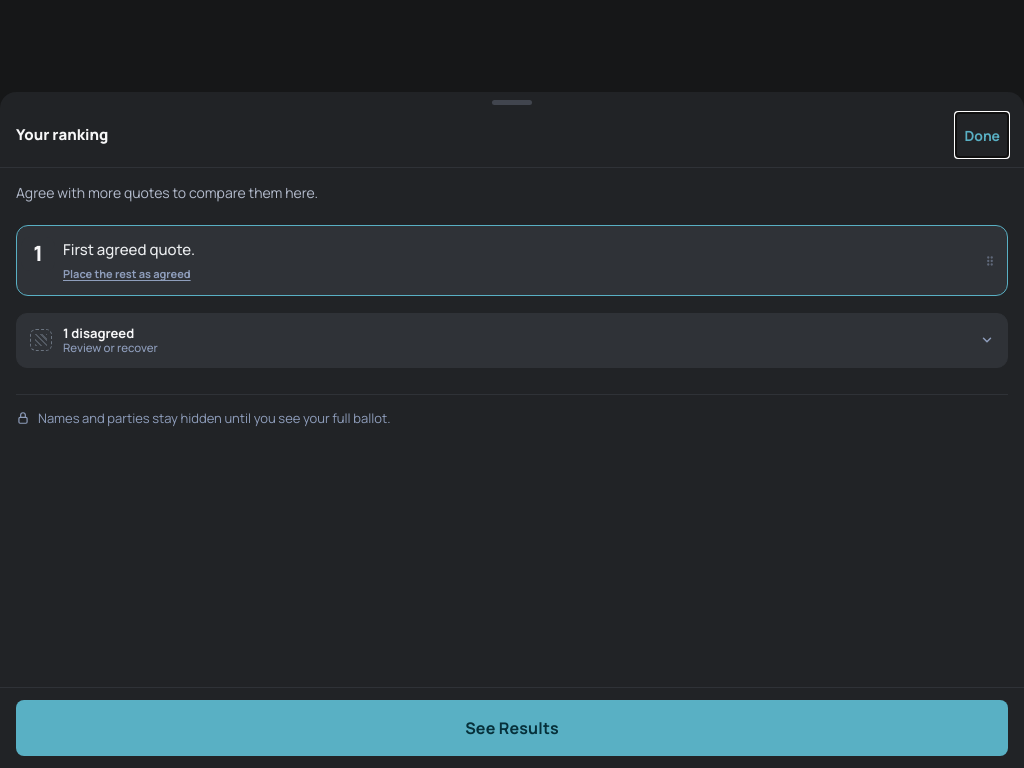
Test: RankSheet › recovers a disagreed quote into the ranking
Click the button "1 disagreed Review or recover". click: (101, 333)
box: 16,313 -> 1008,368
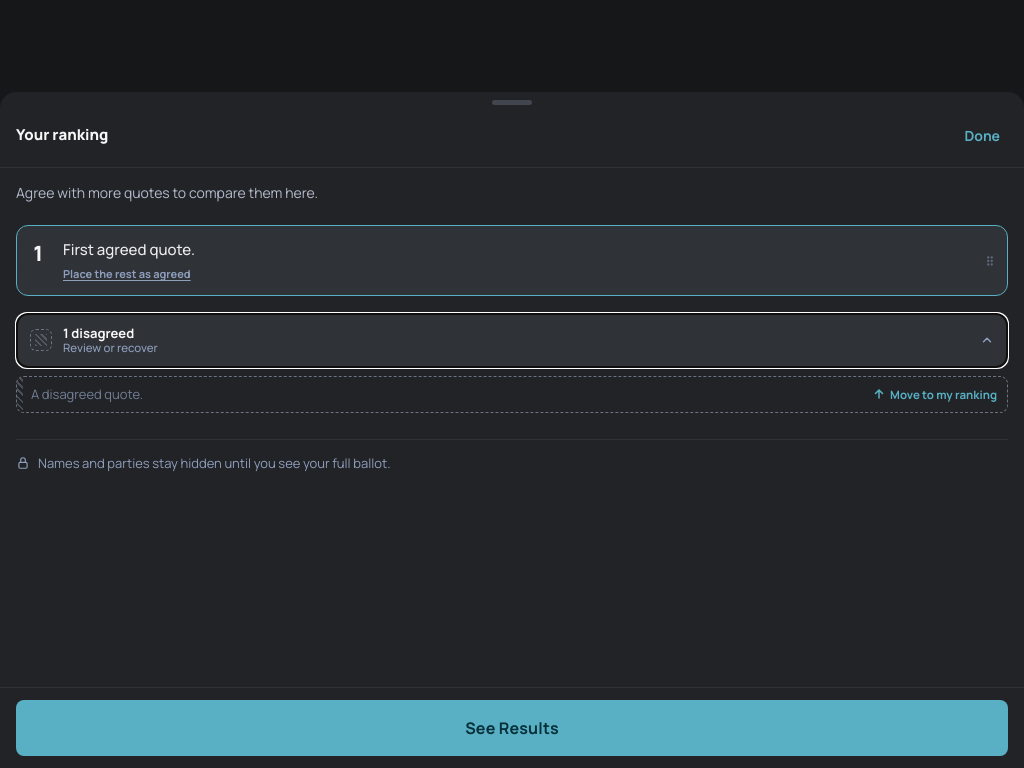
Click the button "Move to my ranking". click: (935, 394)
box: 872,386 -> 997,403
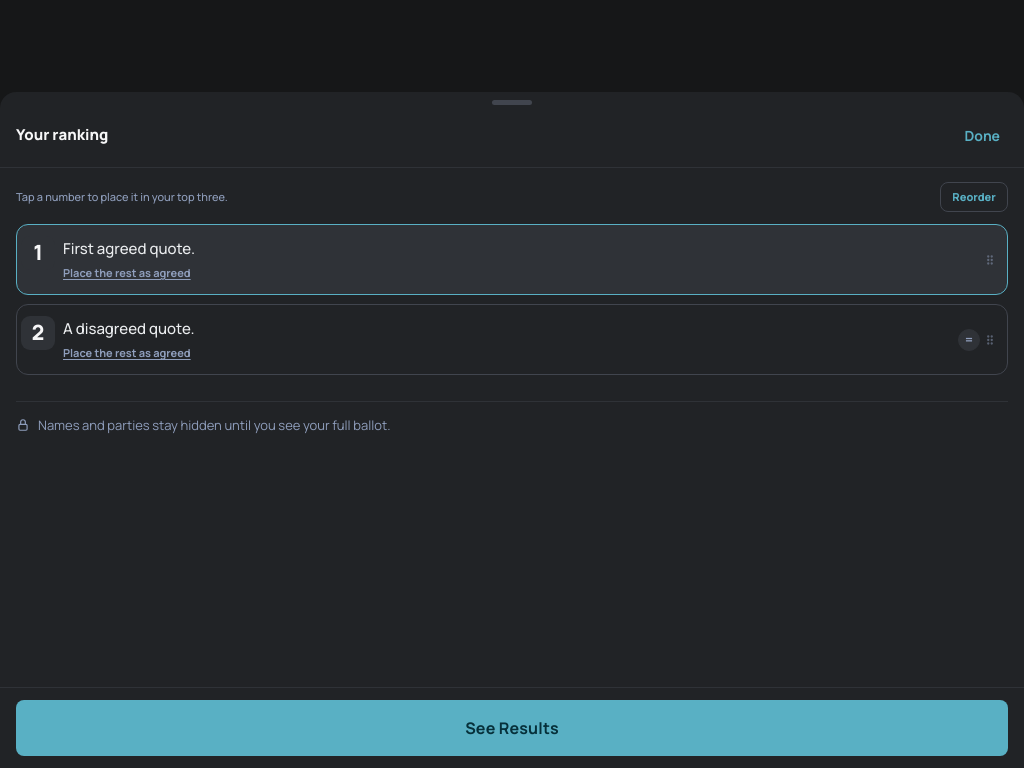
expect the text "A disagreed quote." is shown: met, box 63,318 -> 194,339
expect the button "Review or recover" is gone: met
